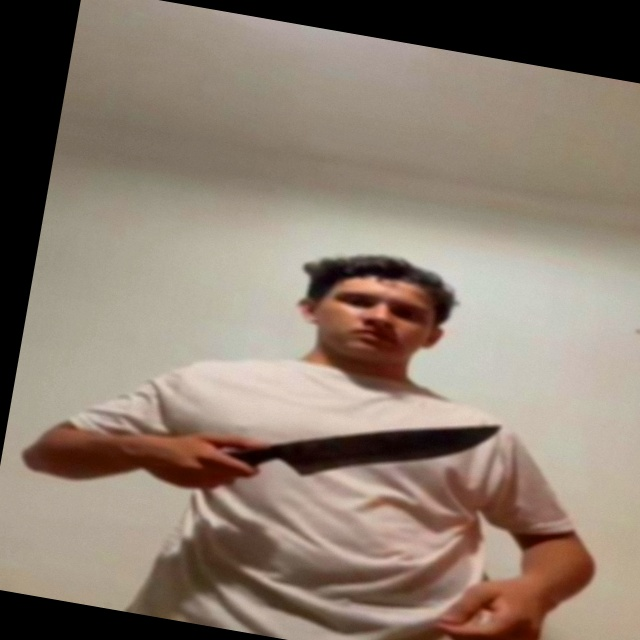Sharp-Object: (267, 385, 504, 506)
